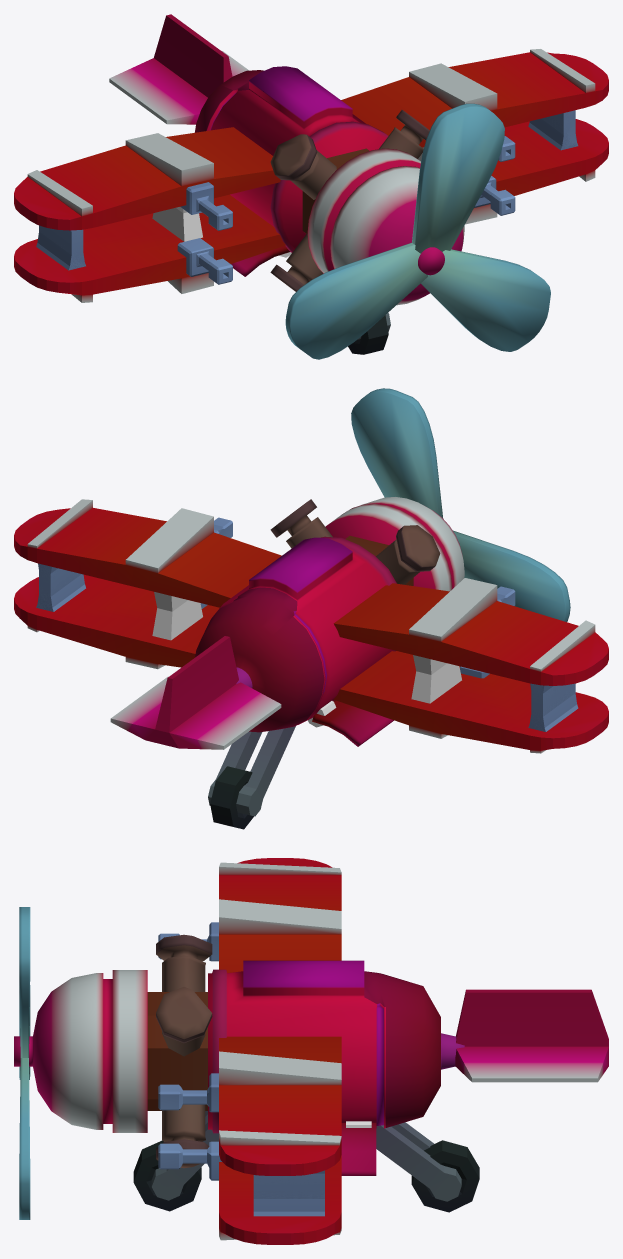
Rendered from самолет 4.fbx.
The picture shows the model from 3 angles, top to bottom: view 1: azimuth 30°, elevation 25°; view 2: azimuth 150°, elevation 25°; view 3: azimuth 270°, elevation 25°; orthographic projection. The views are drawn at different scales.
Visible parts, largest first — view 1: Cube.043, Cube.046, Cylinder.035, Cylinder.033, Cube.047, Cylinder.034, Cube.048, Cube.044, Cube.045, Cylinder.043, Cube.042, Cylinder.037; view 2: Cube.043, Cylinder.035, Cube.046, Cube.047, Cylinder.033, Cylinder.038, Cylinder.034, Cube.044, Cube.045, Cylinder.037, Cube.048; view 3: Cube.043, Cylinder.035, Cylinder.033, Cube.047, Cylinder.034, Cylinder.038, Cube.042, Cube.046, Cube.048, Cylinder.043, Cube.044, Cylinder.036.
Part boxes in pixels (x1,y1,x2,y2): Cube.043: (14,49,608,302); Cube.046: (285,103,550,359); Cylinder.035: (195,66,388,252); Cylinder.033: (307,148,464,305); Cube.047: (109,14,248,124); Cylinder.034: (270,110,429,291); Cube.048: (177,136,515,284); Cube.044: (36,110,578,270); Cube.045: (152,147,424,241); Cylinder.043: (348,313,390,354); Cube.042: (302,148,369,233); Cylinder.037: (231,245,289,276); Cube.043: (14,499,608,753); Cylinder.035: (195,536,396,732); Cube.046: (351,388,570,621); Cube.047: (110,636,281,749); Cylinder.033: (325,497,464,591); Cylinder.038: (208,726,295,829); Cylinder.034: (270,499,440,584); Cube.044: (36,563,578,731); Cube.045: (152,592,461,703); Cylinder.037: (312,700,393,746); Cube.048: (200,517,515,678); Cube.043: (219,858,341,1244); Cylinder.035: (208,960,464,1133); Cylinder.033: (14,970,147,1132); Cube.047: (455,989,608,1082); Cylinder.034: (156,934,212,1168); Cylinder.038: (376,1122,479,1212); Cube.042: (147,992,207,1110); Cube.046: (19,907,30,1219); Cube.048: (158,922,221,1180); Cylinder.043: (133,1111,218,1211); Cube.044: (253,1170,324,1216); Cylinder.036: (341,1123,376,1175).
Bounding box in the file's own units: 924 × 439 × 758.
